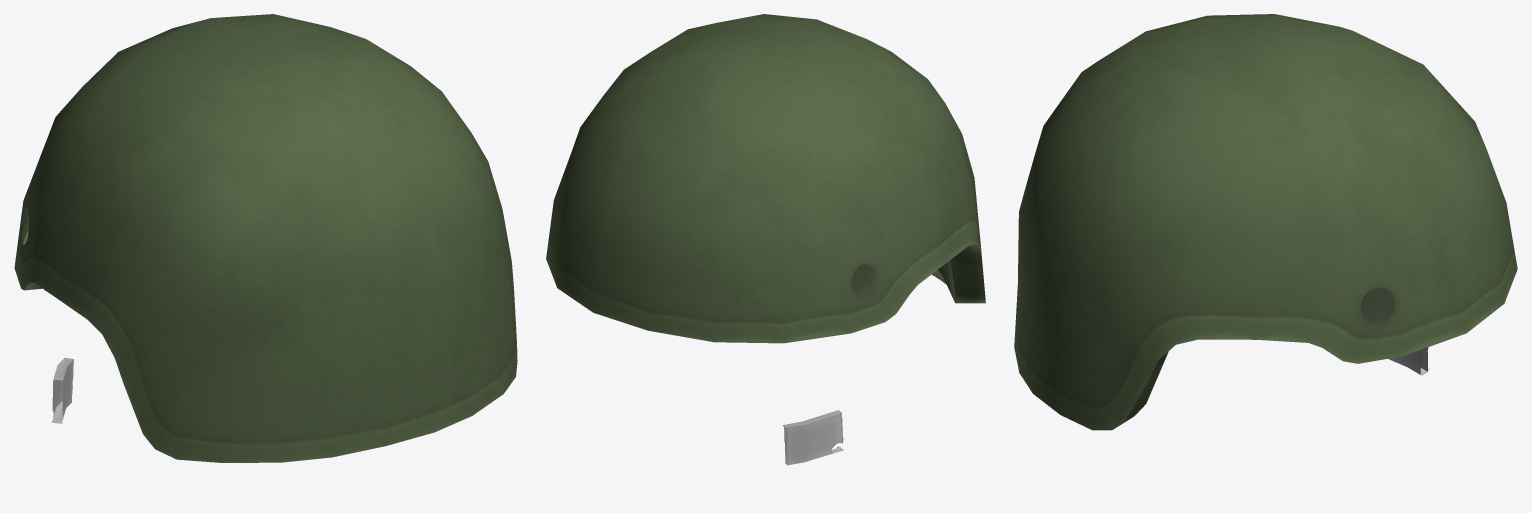
The model's file is IG_Helmat_Lv3-2.fbx.
3 renders of one model, left to right at view 1: azimuth 30°, elevation 25°; view 2: azimuth 150°, elevation 25°; view 3: azimuth 270°, elevation 25°, orthographic. The views are drawn at different scales.
Visible parts, largest first — view 1: HighcomStriker; view 2: HighcomStriker; view 3: HighcomStriker.
Boxes of the visible parts, box(x1,y1,x2,y2) form: HighcomStriker: box(14, 14, 517, 462); HighcomStriker: box(546, 14, 985, 465); HighcomStriker: box(1014, 14, 1517, 430).
Size of the model in its own units: 0.5798 by 0.5836 by 0.6188.
